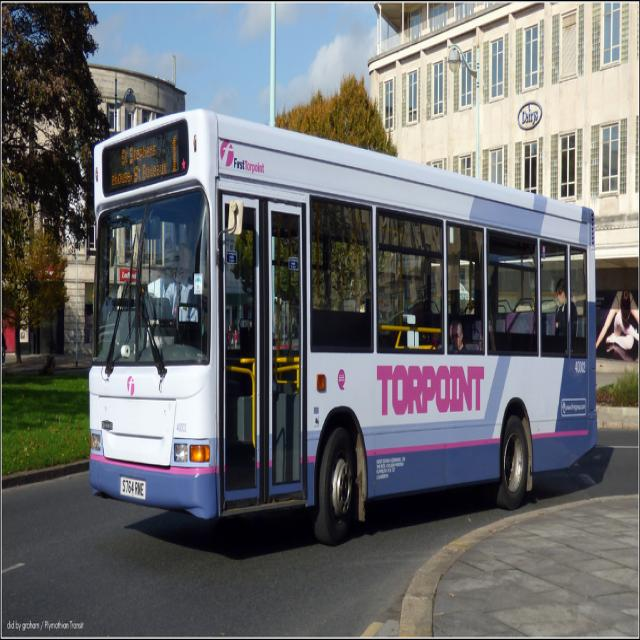Buses: (84, 108, 598, 548)
